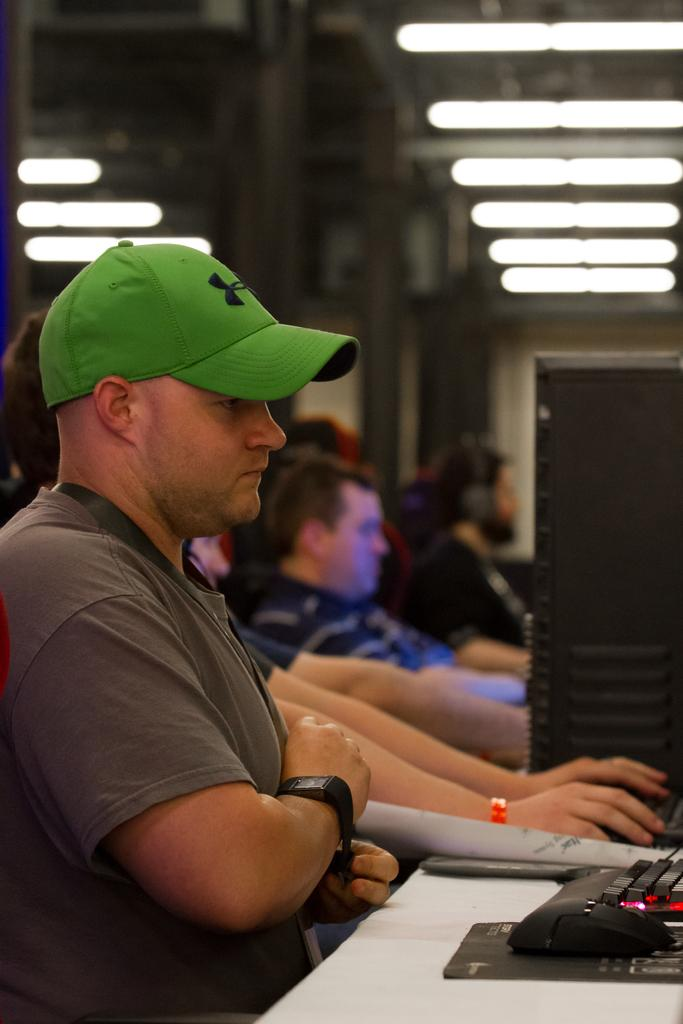Hat: (40, 243, 358, 409)
